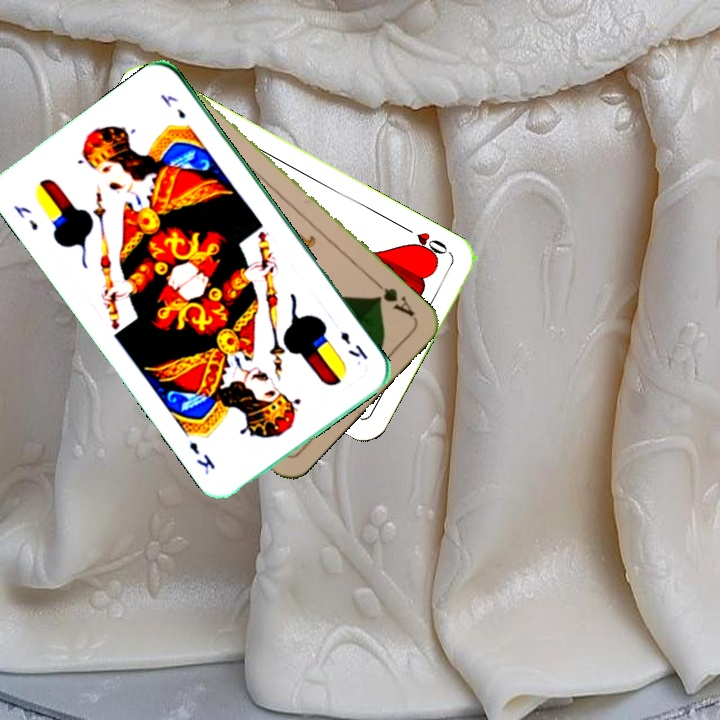EK: (336, 327, 371, 362), (10, 201, 41, 233)
GA: (369, 276, 417, 320)
HO: (398, 222, 453, 263)
